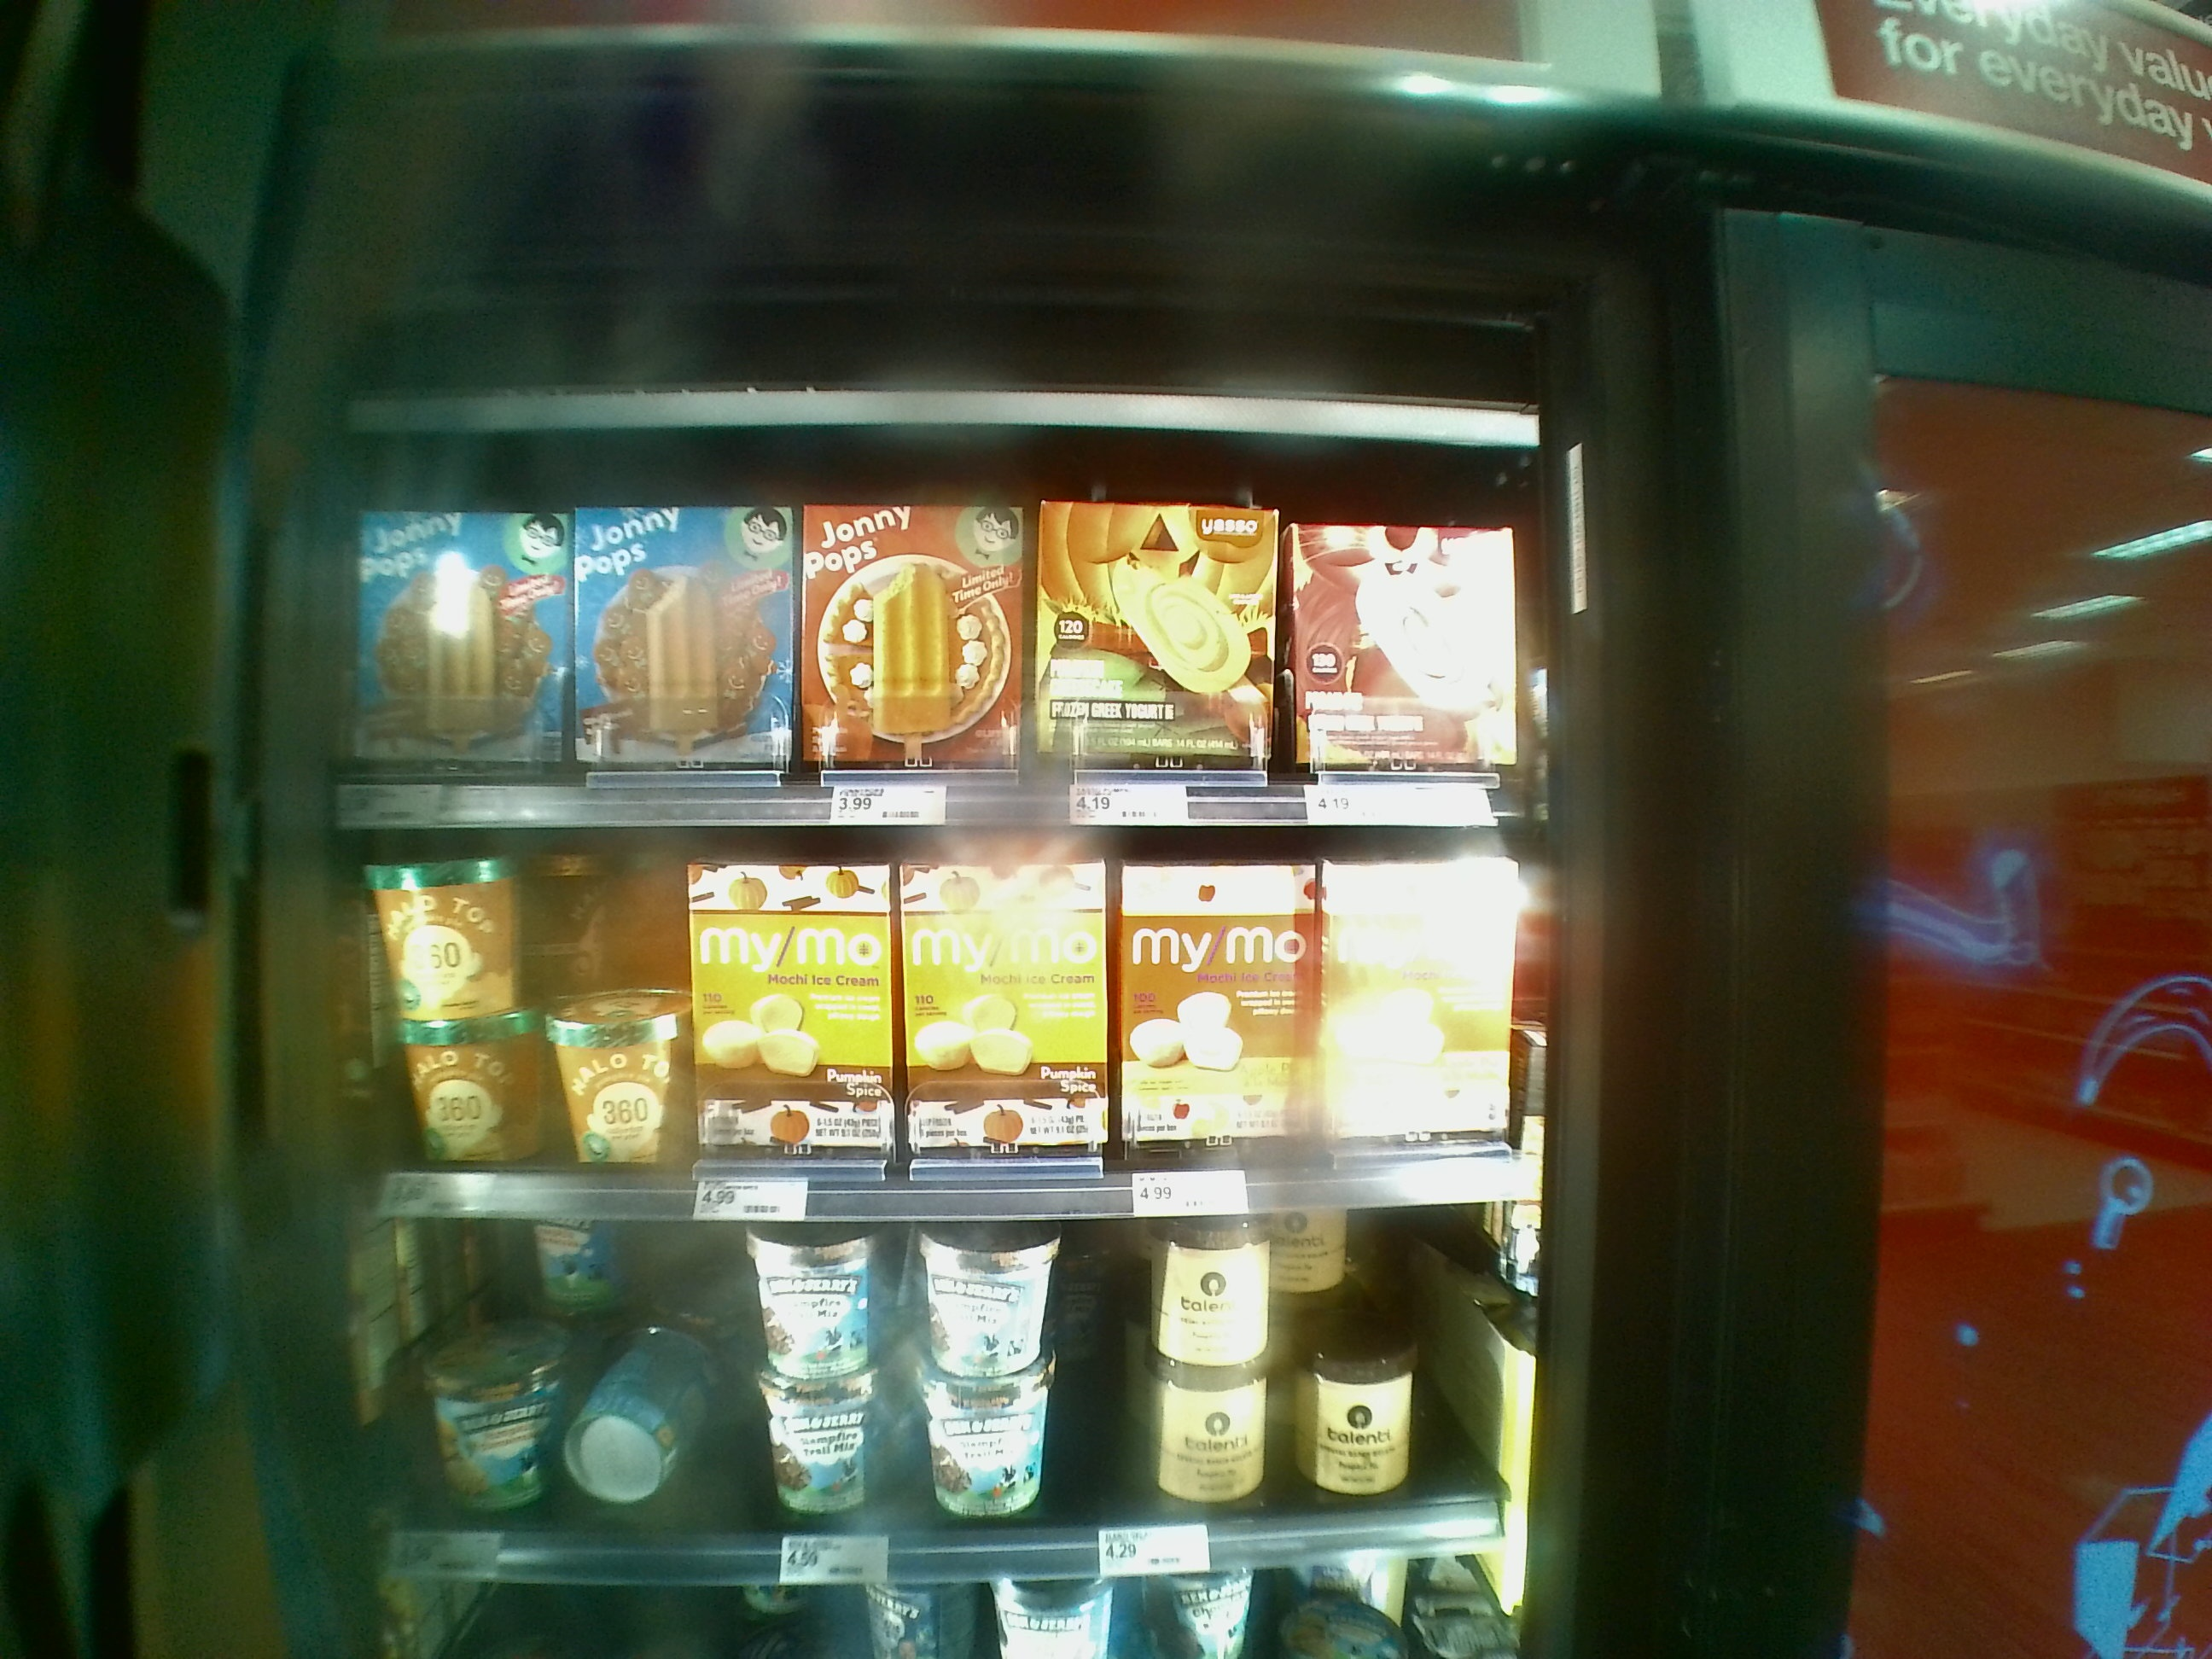shelf: (312, 821, 1559, 1229), (329, 432, 1540, 843), (317, 1197, 1517, 1561)
